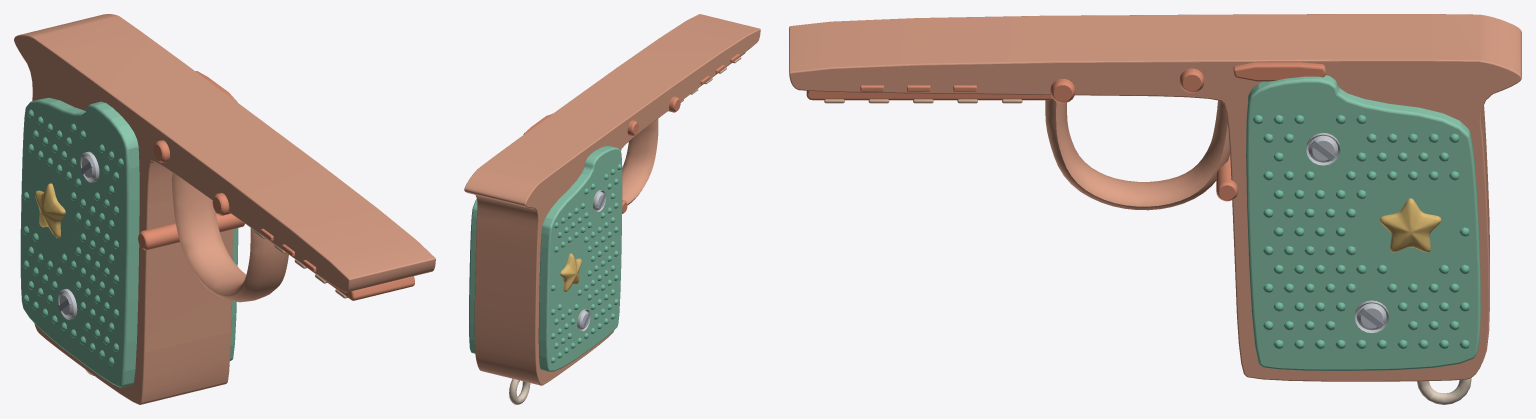
File: Gun_Frame.fbx
3 views of the same model, side by side, from view 1: azimuth 30°, elevation 25°; view 2: azimuth 150°, elevation 25°; view 3: azimuth 270°, elevation 25° (orthographic). The views are drawn at different scales.
Visible parts, largest first — view 1: Gun_Frame; view 2: Gun_Frame; view 3: Gun_Frame.
Boxes of the visible parts, box(x1,y1,x2,y2) form: Gun_Frame: box(14, 14, 435, 404); Gun_Frame: box(464, 14, 760, 404); Gun_Frame: box(789, 14, 1521, 404).
Bounding box in the file's own units: 0.0437 × 0.1066 × 0.1924.
